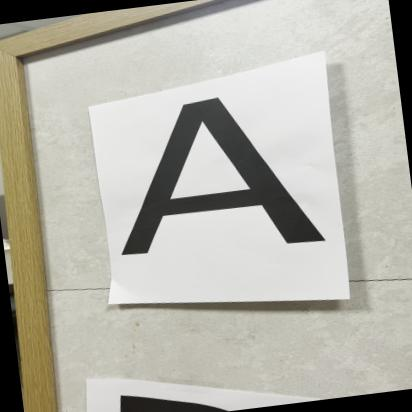seat: (98, 78, 348, 282)
